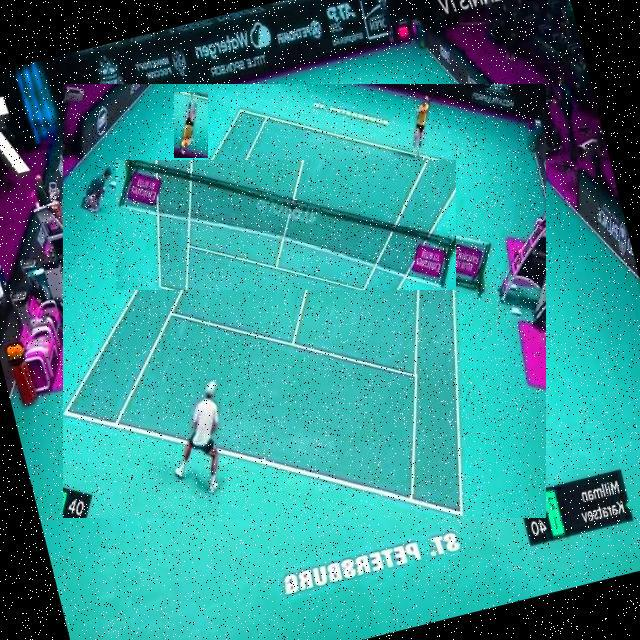court: (64, 84, 548, 518)
net: (117, 160, 456, 290)
player: (366, 374, 438, 494), (175, 92, 208, 158)
